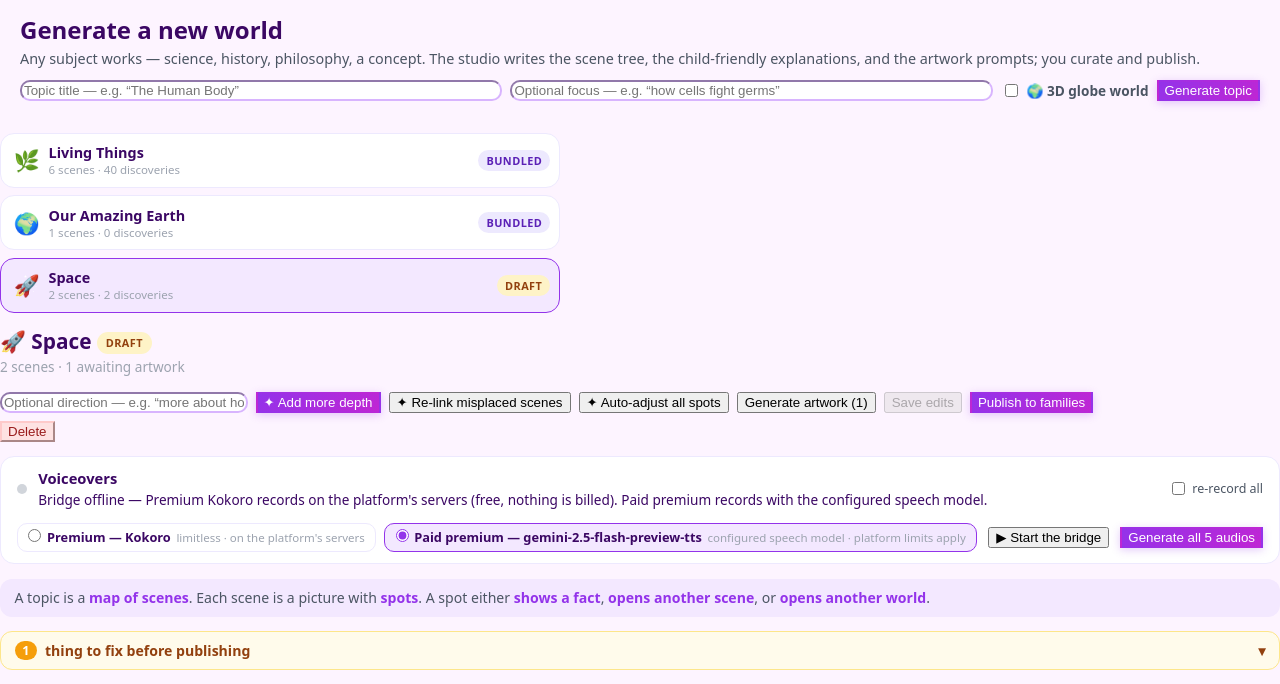
Scenario: WikidoStudio — plain-language editor › Deleting a topic › says so plainly when some files could not be removed
Click the button with class "danger": (27, 431) [0, 421, 54, 442]
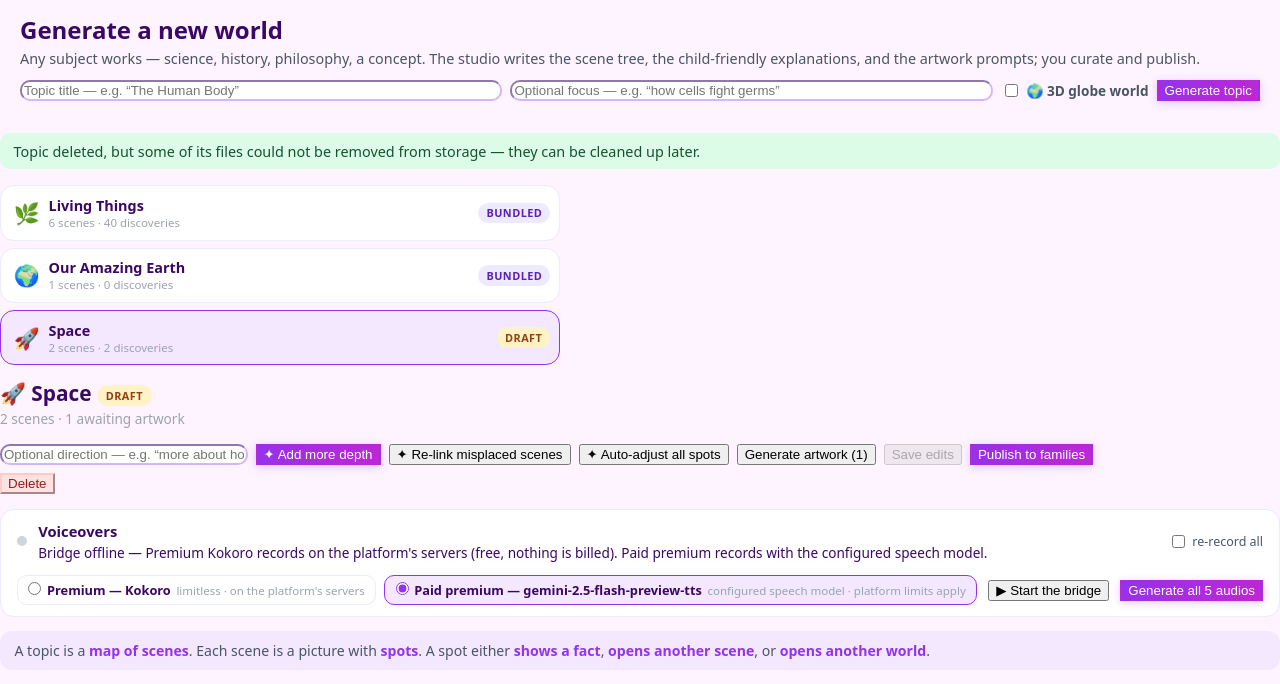
Expected: the text with class "note" shows "some of its files could not be removed", [14, 142, 700, 161]
